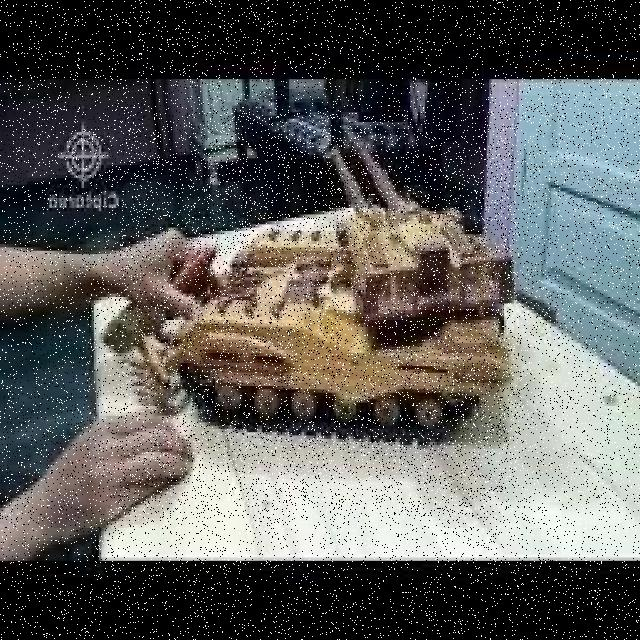MIL_MBT: (119, 112, 519, 518)
